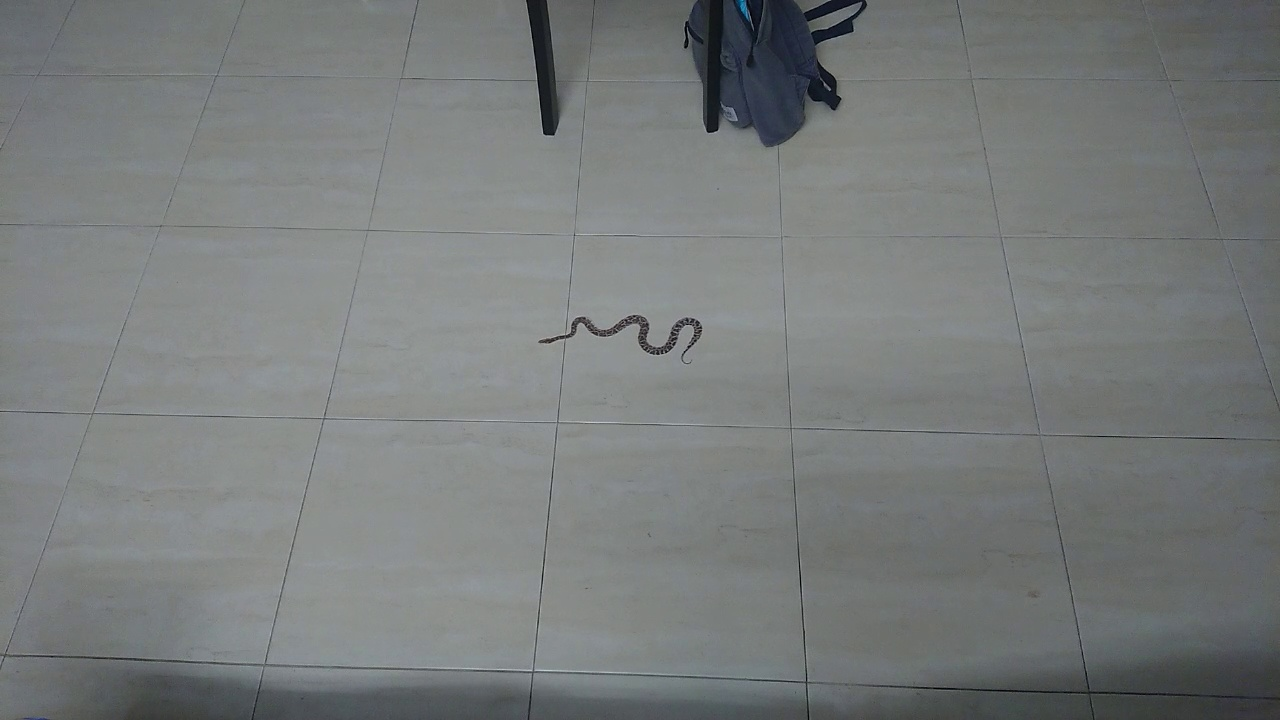snake: (524, 297, 722, 380)
